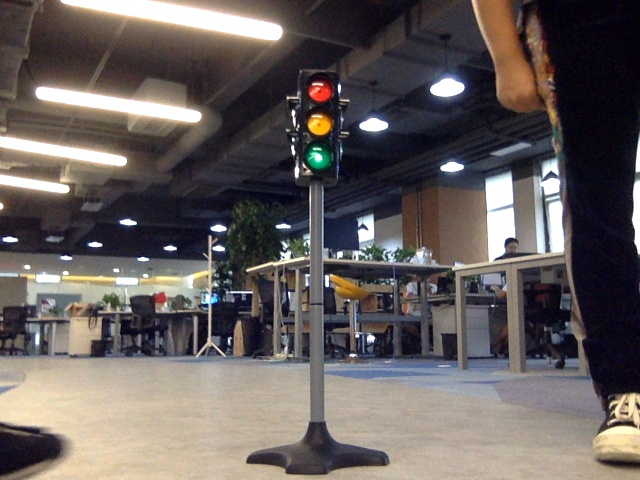green: (300, 82, 337, 178)
